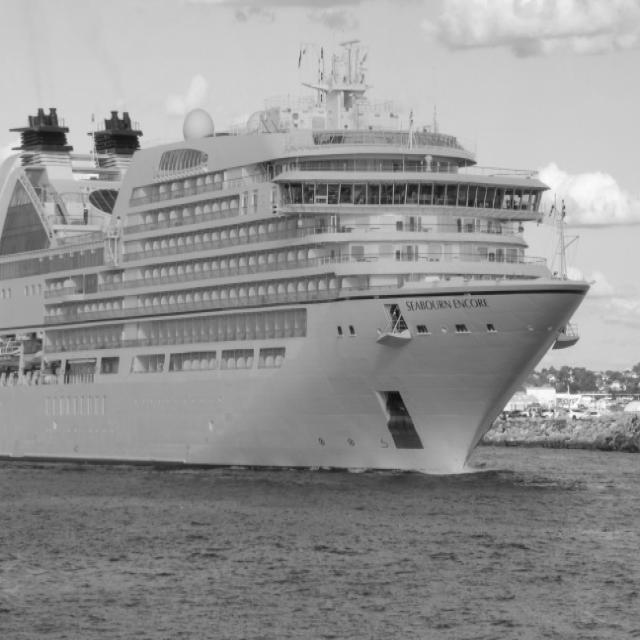cruises: (1, 24, 602, 492)
